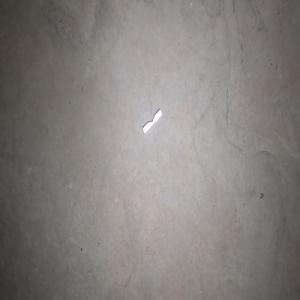ClampPart: (142, 107, 163, 135)
